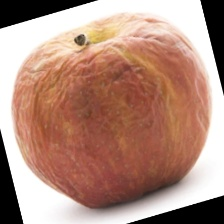apple: (27, 18, 187, 210)
